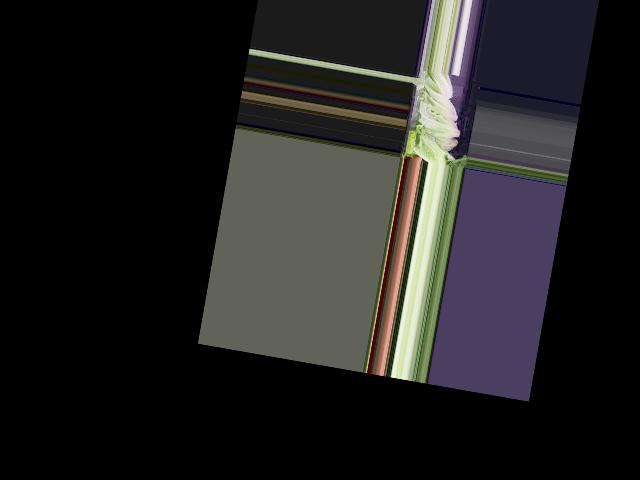lettuce: (424, 70, 457, 101)
